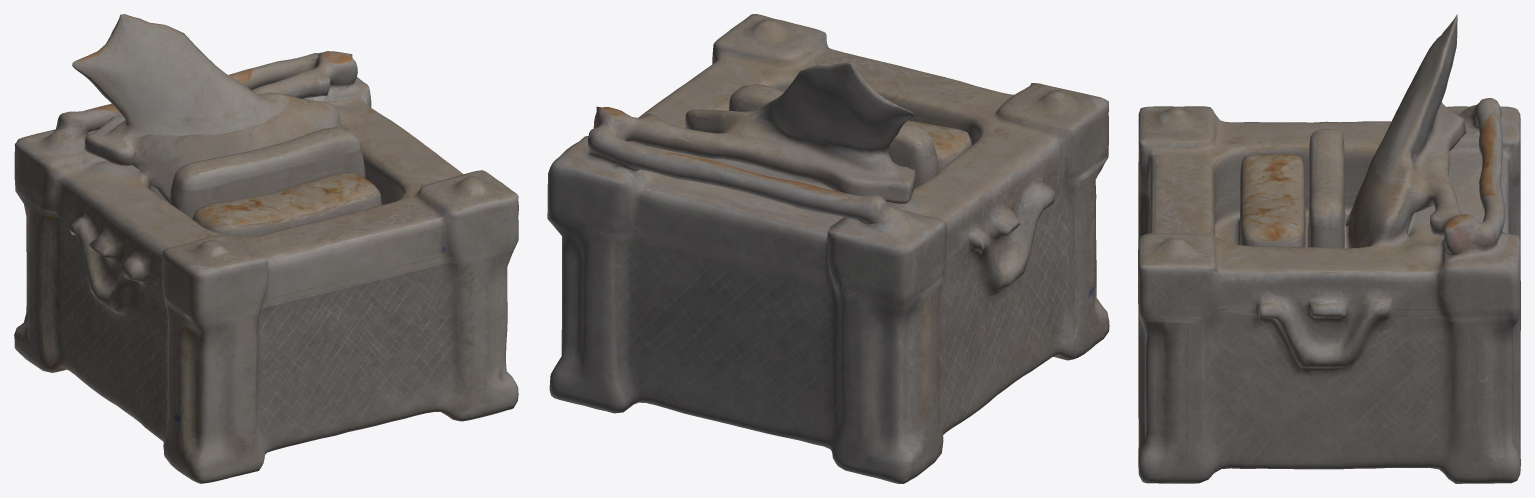
The model's file is Tinderbox.glb.
3 views of the same model, side by side, from view 1: azimuth 30°, elevation 25°; view 2: azimuth 150°, elevation 25°; view 3: azimuth 270°, elevation 25° (orthographic). The views are drawn at different scales.
Visible parts, largest first — view 1: file1; view 2: file1; view 3: file1.
Boxes of the visible parts, x1=… form: file1: x1=14, y1=14, x2=518, y2=483; file1: x1=547, y1=14, x2=1109, y2=483; file1: x1=1138, y1=14, x2=1520, y2=483.
Size of the model in its own units: 2 by 1.93 by 1.91.
Materials: 1 (1 with a texture image).
